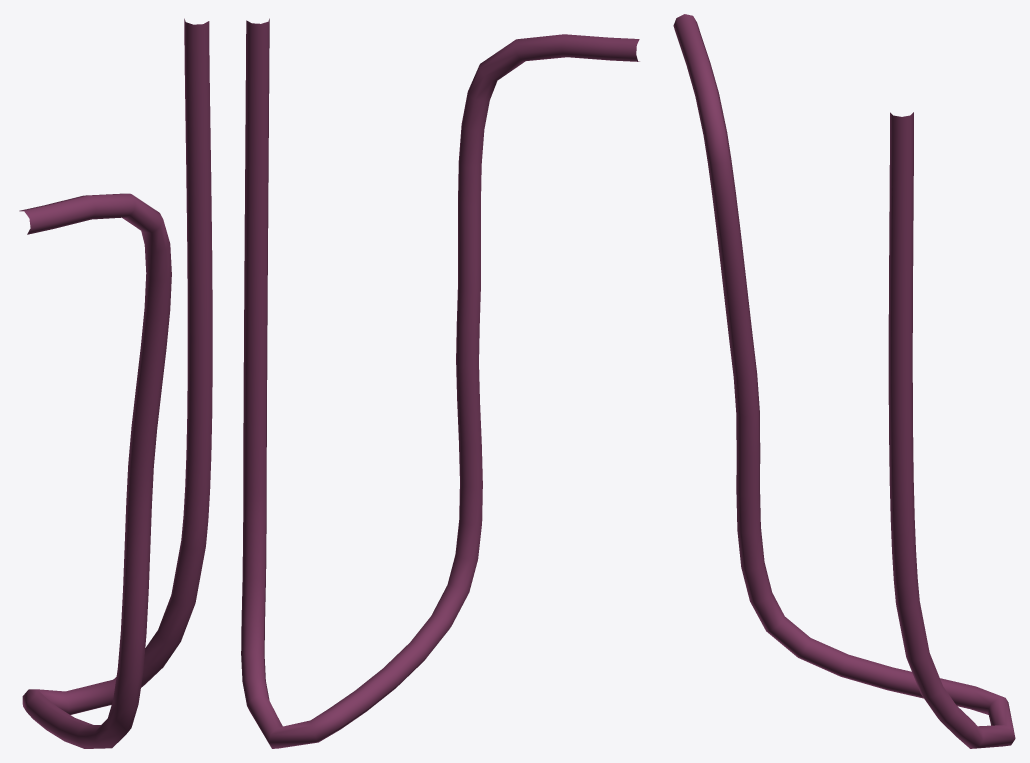
File: SM_TD2_Cable_L_Turn.gltf
The picture shows the model from 3 angles, left to right: view 1: azimuth 30°, elevation 25°; view 2: azimuth 150°, elevation 25°; view 3: azimuth 270°, elevation 25°; orthographic projection. The views are drawn at different scales.
Visible parts, largest first — view 1: SM_TD2_Cable_L_Turn; view 2: SM_TD2_Cable_L_Turn; view 3: SM_TD2_Cable_L_Turn.
Boxes of the visible parts, left/top/right/bottom form: SM_TD2_Cable_L_Turn: left=19, top=18, right=212, bottom=748; SM_TD2_Cable_L_Turn: left=241, top=18, right=639, bottom=748; SM_TD2_Cable_L_Turn: left=673, top=14, right=1015, bottom=748.
Size of the model in its own units: 0.5492 by 1.23 by 0.5686.
